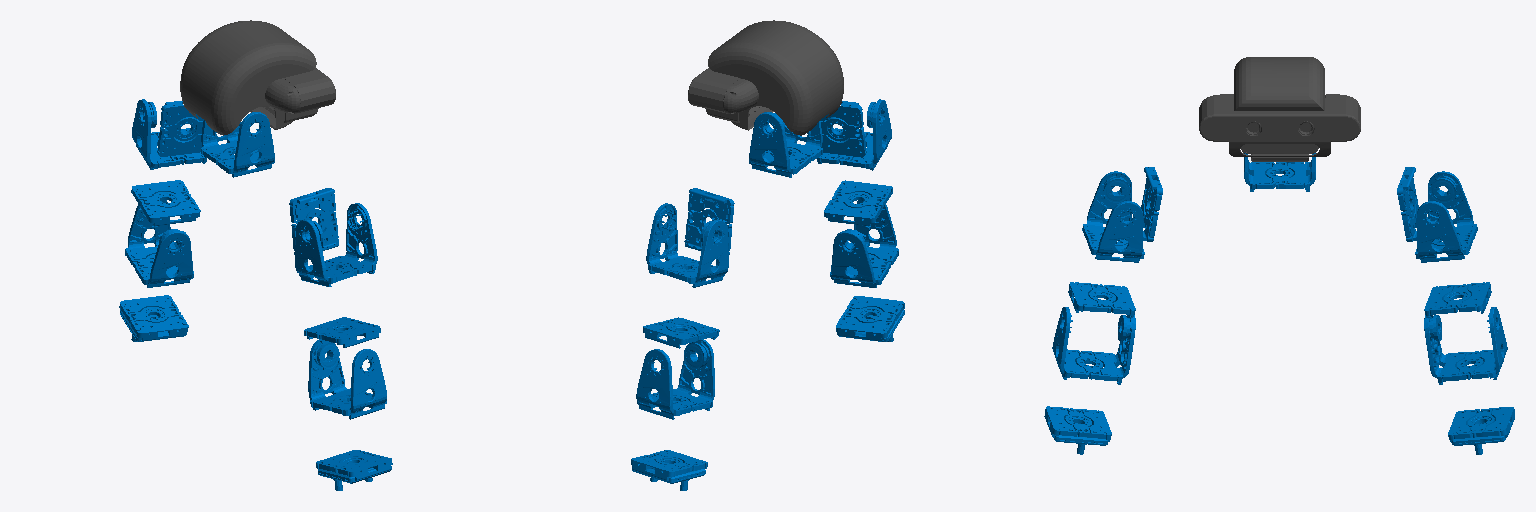
--- Render facts (derived) ---
3 views of the same robot in one strip: view 1: azimuth 30°, elevation 25°; view 2: azimuth 150°, elevation 25°; view 3: azimuth 270°, elevation 25° (orthographic).
Model alterego with 44 links and 43 joints (12 revolute, 4 continuous, 2 prismatic, 25 fixed), rooted at world, posed every joint at zero.
Links seen in each view (by area): view 1: head, right_forearm_flange, right_arm_flange, left_forearm_flange, neck, left_elbow_flange, left_wrist_flange, left_shoulder_flange, left_arm_flange, right_shoulder_flange, right_elbow_flange, right_wrist_flange; view 2: head, left_forearm_flange, left_arm_flange, right_forearm_flange, neck, right_elbow_flange, right_wrist_flange, right_shoulder_flange, right_arm_flange, left_shoulder_flange, left_elbow_flange, left_wrist_flange; view 3: head, left_arm_flange, right_arm_flange, left_forearm_flange, right_forearm_flange, neck, left_elbow_flange, left_wrist_flange, right_elbow_flange, right_wrist_flange, left_shoulder_flange, right_shoulder_flange (+1 smaller).
Boxes of the visible links, bbox=[...] form: head: bbox=[180, 20, 335, 135]; right_forearm_flange: bbox=[308, 339, 386, 419]; right_arm_flange: bbox=[295, 203, 377, 286]; left_forearm_flange: bbox=[125, 200, 193, 287]; neck: bbox=[201, 112, 274, 177]; left_elbow_flange: bbox=[131, 180, 200, 225]; left_wrist_flange: bbox=[119, 295, 188, 340]; left_shoulder_flange: bbox=[157, 101, 203, 156]; left_arm_flange: bbox=[132, 99, 206, 169]; right_shoulder_flange: bbox=[289, 188, 338, 254]; right_elbow_flange: bbox=[304, 317, 380, 347]; right_wrist_flange: bbox=[316, 450, 392, 480]; head: bbox=[688, 20, 843, 135]; left_forearm_flange: bbox=[636, 339, 714, 419]; left_arm_flange: bbox=[646, 203, 728, 287]; right_forearm_flange: bbox=[830, 200, 898, 287]; neck: bbox=[749, 112, 822, 177]; right_elbow_flange: bbox=[824, 180, 892, 225]; right_wrist_flange: bbox=[836, 296, 904, 341]; right_shoulder_flange: bbox=[820, 101, 866, 157]; right_arm_flange: bbox=[817, 99, 891, 170]; left_shoulder_flange: bbox=[684, 188, 734, 254]; left_elbow_flange: bbox=[643, 317, 719, 348]; left_wrist_flange: bbox=[631, 450, 707, 480]; head: bbox=[1199, 57, 1360, 161]; left_arm_flange: bbox=[1415, 171, 1477, 262]; right_arm_flange: bbox=[1082, 171, 1144, 262]; left_forearm_flange: bbox=[1424, 307, 1507, 384]; right_forearm_flange: bbox=[1052, 307, 1135, 384]; neck: bbox=[1244, 153, 1315, 191]; left_elbow_flange: bbox=[1424, 282, 1491, 317]; left_wrist_flange: bbox=[1448, 407, 1514, 442]; right_elbow_flange: bbox=[1068, 282, 1135, 317]; right_wrist_flange: bbox=[1044, 406, 1111, 441]; left_shoulder_flange: bbox=[1397, 167, 1418, 241]; right_shoulder_flange: bbox=[1141, 167, 1162, 241].
Size in the robot's own frame: 0.1395 by 0.5663 by 0.5058 metres.
Meshes: 13 distinct files referenced, 16 mesh visuals loaded (6 Collada DAE); not drawn: 1 (reference not matched to a file when rendering), 15 (file found but could not be loaded).

The robot description file, URDF, robot "alterego":
<?xml version="1.0" ?>
<!-- =================================================================================== -->
<!-- |    This document was autogenerated by xacro from ego_robot_gazebo_v2.urdf.xacro | -->
<!-- |    EDITING THIS FILE BY HAND IS NOT RECOMMENDED                                 | -->
<!-- =================================================================================== -->
<robot name="alterego">
  <material name="qbmove/flange">
    <color rgba="0.0 0.5 0.8 1.0"/>
  </material>
  <material name="qbmove/cube">
    <color rgba="0.35 0.35 0.35 1.0"/>
  </material>
  <material name="qbmove/shaft">
    <color rgba="0.8 0.8 0.8 1.0"/>
  </material>
  <material name="qbmove/default">
    <color rgba="0.35 0.35 0.35 1.0"/>
  </material>
  <material name="SoftBlue">
    <color rgba="0.0 0.0 0.8 0.9"/>
  </material>
  <material name="SoftLightBlue">
    <color rgba="0.0 0.4 1.0 1.0"/>
  </material>
  <material name="wheel">
    <color rgba="0.50 0.50 0.50 1.0"/>
  </material>
  <!-- IMU : -->
  <joint name="base_to_imu" type="fixed">
    <origin rpy="0 0 0" xyz="0 102.5e-3 24.25e-3"/>
    <parent link="base"/>
    <child link="imu"/>
  </joint>
  <link name="imu">
    <visual>
      <material name="qbmove/cube"/>
      <geometry>
        <mesh filename="package://alterego_description/meshes/common/visual/mc_seg_imu_supp_1_100.dae" scale="0.001 0.001 0.001"/>
      </geometry>
      <origin rpy="0 0 0" xyz="0 0 0"/>
    </visual>
    <inertial>
      <origin rpy="0 0 0" xyz="7.5000002e-3 -2.4329396e-4  5.0246414e-4"/>
      <mass value="2.3770213e-3"/>
      <inertia ixx="0" ixy="0" ixz="0" iyy="0" iyz="0" izz="0"/>
    </inertial>
    <collision>
      <origin rpy="0 0 0" xyz="0 0 0"/>
      <geometry>
        <mesh filename="package://alterego_description/meshes/common/collision/mc_seg_imu_supp_1_100.stl" scale="0.001 0.001 0.001"/>
      </geometry>
    </collision>
  </link>
  <!-- LASER : -->
  <joint name="base_to_laser" type="fixed">
    <origin rpy="0 0 -1.5707963" xyz="0 0 116e-3 "/>
    <parent link="base"/>
    <child link="laser"/>
  </joint>
  <link name="laser">
    <visual>
      <material name="qbmove/cube"/>
      <geometry>
        <mesh filename="package://alterego_description/meshes/common/visual/rplidar_a2_slamtec.dae" scale="0.001 0.001 0.001"/>
      </geometry>
      <origin rpy="0 0 0" xyz="0 0 0"/>
    </visual>
    <inertial>
      <origin rpy="0 0 0" xyz=" -4.3709710e-4 0   1.8991442e-2"/>
      <mass value="2.0002622e-1"/>
      <inertia ixx=" 9.1569570e-5" ixy="0" ixz="0" iyy="9.0192290e-5" iyz="0" izz="1.2956170e-4"/>
    </inertial>
    <collision>
      <origin rpy="0 0 0" xyz="0 0 0"/>
      <geometry>
        <mesh filename="package://alterego_description/meshes/common/collision/rplidar_a2_slamtec.stl" scale="0.001 0.001 0.001"/>
      </geometry>
    </collision>
  </link>
  <gazebo reference="laser">
    <material>Gazebo/Black</material>
  </gazebo>
  <!-- ZED : -->
  <joint name="head_to_camera" type="fixed">
    <origin rpy="-1.5707963 0 2.3561944" xyz="-87.9065e-3 21.6811e-3 -6.5e-3"/>
    <parent link="head"/>
    <child link="camera"/>
  </joint>
  <link name="camera">
    <visual>
      <material name="qbmove/cube"/>
      <geometry>
        <mesh filename="package://alterego_description/meshes/common/visual/zedm.dae" scale="0.001 0.001 0.001"/>
      </geometry>
      <origin rpy="0 0 0" xyz="0 0 0"/>
    </visual>
    <inertial>
      <origin rpy="0 0 0" xyz=" -1.7967264e-2  8.9226986e-4  7.6630930e-6"/>
      <mass value="5.8888131e-2"/>
      <inertia ixx=" 0" ixy="0" ixz="0" iyy="0" iyz="0" izz="0"/>
    </inertial>
    <collision>
      <origin rpy="0 0 0" xyz="0 0 0"/>
      <geometry>
        <mesh filename="package://alterego_description/meshes/common/collision/zedm.stl" scale="0.001 0.001 0.001"/>
      </geometry>
    </collision>
  </link>
  <!-- FRAME FOR PLUGIN  -->
  <!-- LEFT  -->
  <joint name="camera_to_left" type="fixed">
    <origin rpy="0 0 0" xyz="0 0.025 0"/>
    <parent link="camera"/>
    <child link="camera_left"/>
  </joint>
  <link name="camera_left"/>
  <!-- FRAME FOR PLUGIN  -->
  <!-- RIGHT  -->
  <joint name="camera_to_right" type="fixed">
    <origin rpy="0 0 0" xyz="0 -0.036 0"/>
    <parent link="camera"/>
    <child link="camera_right"/>
  </joint>
  <link name="camera_right"/>
  <!-- IMU : -->
  <joint name="head_to_realsense" type="fixed">
    <origin rpy="-1.5707963 0 2.3561944" xyz="-65.6725e-3 38.7425e-3 0"/>
    <parent link="head"/>
    <child link="realsense"/>
  </joint>
  <link name="realsense">
    <visual>
      <material name="qbmove/cube"/>
      <geometry>
        <mesh filename="package://alterego_description/meshes/common/visual/intel_realsense_d415_old_asm.dae" scale="0.001 0.001 0.001"/>
      </geometry>
      <origin rpy="1.57 0 1.57" xyz="0 0 0"/>
    </visual>
    <inertial>
      <origin rpy="0 0 0" xyz=" 2.8406417e-3  -1.0608066e-4  -1.1037173e-2"/>
      <mass value="5.6999990e-2"/>
      <inertia ixx=" 0" ixy="0" ixz="0" iyy="0" iyz="0" izz="0"/>
    </inertial>
    <collision>
      <origin rpy="1.57 0 1.57" xyz="0 0 0"/>
      <geometry>
        <mesh filename="package://alterego_description/meshes/common/collision/intel_realsense_d415_old_asm.stl" scale="0.001 0.001 0.001"/>
      </geometry>
    </collision>
  </link>
  <gazebo reference="realsense">
    <material>Gazebo/Black</material>
  </gazebo>
  <link name="fake_realsense">
    <inertial>
      <origin rpy="0 0 0" xyz=" 2.8406417e-5  -1.0608066e-7  -1.1037173e-5"/>
      <mass value="5.6999990e-4"/>
      <inertia ixx=" 0" ixy="0" ixz="0" iyy="0" iyz="0" izz="0"/>
    </inertial>
  </link>
  <joint name="depth_to_fakelink" type="fixed">
    <!-- <origin xyz="83e-3 -0.5e-3  1006.5e-3" rpy="-1.57 0 -1.57" /> -->
    <origin rpy="-1.57 0 -1.57" xyz="0 0 0"/>
    <parent link="realsense"/>
    <child link="fake_realsense"/>
  </joint>
  <!-- <xacro:include filename="$(find realsense2_description)/urdf/_d435.urdf.xacro" />
  <xacro:sensor_d435 name="d435" topics_ns="realsense" parent="realsense_link"
    publish_pointcloud="true">
    <origin xyz="0 0 0" rpy="1.57 -1.57 0" />
  </xacro:sensor_d435> -->
  <!-- JOINT -->
  <joint name="base_to_wheel_L" type="continuous">
    <axis xyz="0 0 1"/>
    <limit effort="22" velocity="1e16"/>
    <dynamics damping="5.2" friction="2.17"/>
    <origin rpy="0 -1.5707963 -1.5707963" xyz="0 277e-3 0"/>
    <parent link="base"/>
    <child link="wheel_L"/>
  </joint>
  <!-- LINK -->
  <link name="wheel_L">
    <visual>
      <material name="wheel"/>
      <geometry>
        <mesh filename="package://alterego_description/meshes/common/visual/mteg100_varvel_gearbox.dae" scale="0.001 0.001 0.001"/>
      </geometry>
      <origin rpy="0 0 0" xyz="0 0 0"/>
    </visual>
    <inertial>
      <origin rpy="0 0 0" xyz="-9.3352926e-7 -1.6320810e-6 7.2612692e-4"/>
      <mass value="1.2175322"/>
      <inertia ixx="4.9769349e-3" ixy="0" ixz="0" iyy="4.9768680e-3" iyz="0" izz="8.8587376e-3"/>
    </inertial>
    <collision>
      <geometry>
        <cylinder length="0.07" radius="0.13"/>
      </geometry>
      <origin rpy="0 0 0" xyz="0 0 0"/>
    </collision>
  </link>
  <!-- GAZEBO REFERENCE -->
  <gazebo reference="wheel_L">
    <material>Gazebo/Grey</material>
    <selfCollide>false</selfCollide>
    <mu1 value="1.0"/>
    <mu2 value="1.0"/>
    <kp value="1e6"/>
    <kd value="1.0"/>
  </gazebo>
  <!-- JOINT -->
  <joint name="base_to_wheel_R" type="continuous">
    <axis xyz="0 0 1"/>
    <limit effort="22" velocity="1e16"/>
    <dynamics damping="5.2" friction="2.17"/>
    <origin rpy="0 -1.5707963 1.5707963" xyz="0 -277e-3 0"/>
    <parent link="base"/>
    <child link="wheel_R"/>
  </joint>
  <!-- LINK -->
  <link name="wheel_R">
    <visual>
      <material name="wheel"/>
      <geometry>
        <mesh filename="package://alterego_description/meshes/common/visual/mteg100_varvel_gearbox.dae" scale="0.001 0.001 0.001"/>
      </geometry>
      <origin rpy="0 0 0" xyz="0 0 0"/>
    </visual>
    <inertial>
      <origin rpy="0 0 0" xyz="-9.3352926e-7 -1.6320810e-6 7.2612692e-4"/>
      <mass value="1.2175322"/>
      <inertia ixx="4.9769349e-3" ixy="0" ixz="0" iyy="4.9768680e-3" iyz="0" izz="8.8587376e-3"/>
    </inertial>
    <collision>
      <geometry>
        <cylinder length="0.07" radius="0.13"/>
      </geometry>
      <origin rpy="0 0 0" xyz="0 0 0"/>
    </collision>
  </link>
  <!-- GAZEBO REFERENCE -->
  <gazebo reference="wheel_R">
    <material>Gazebo/Grey</material>
    <selfCollide>false</selfCollide>
    <mu1 value="1.0"/>
    <mu2 value="1.0"/>
    <kp value="1e6"/>
    <kd value="1.0"/>
  </gazebo>
  <!-- Plugins  -->
  <gazebo>
    <plugin filename="libgazebo_ros_control.so" name="gazebo_ros_control">
      <robotNamespace>/wheels</robotNamespace>
      <robotSimType>gazebo_ros_control/DefaultRobotHWSim</robotSimType>
      <legacyModeNS>true</legacyModeNS>
    </plugin>
  </gazebo>
  <!--Trasmission-->
  <transmission name="tran1">
    <type>transmission_interface/SimpleTransmission</type>
    <joint name="base_to_wheel_L">
      <hardwareInterface>hardware_interface/EffortJointInterface</hardwareInterface>
    </joint>
    <actuator name="L_wheel_motor">
      <hardwareInterface>EffortJointInterface</hardwareInterface>
      <mechanicalReduction>1</mechanicalReduction>
    </actuator>
  </transmission>
  <transmission name="tran2">
    <type>transmission_interface/SimpleTransmission</type>
    <joint name="base_to_wheel_R">
      <hardwareInterface>hardware_interface/EffortJointInterface</hardwareInterface>
    </joint>
    <actuator name="R_wheel_motor">
      <hardwareInterface>EffortJointInterface</hardwareInterface>
      <mechanicalReduction>1</mechanicalReduction>
    </actuator>
  </transmission>
  <!-- Left Arm Actuator-->
  <gazebo>
    <plugin filename="libqbmove_plugin.so" name="compliant_act_head0">
      <joint>base_to_neck</joint>
      <operation_mode>5</operation_mode>
      <pub_eltau>false</pub_eltau>
      <pub_state>true</pub_state>
      <sub_ext_tau>false</sub_ext_tau>
      <namespace>left</namespace>
      <t_sample>0.01</t_sample>
      <spring_a1>11.0 </spring_a1>
      <spring_k1>0.02</spring_k1>
      <spring_a2>11.0</spring_a2>
      <spring_k2>0.02</spring_k2>
      <mot_1_tauMax>12.0</mot_1_tauMax>
      <mot_2_tauMax>12.0</mot_2_tauMax>
    </plugin>
  </gazebo>
  <gazebo>
    <plugin filename="libqbmove_plugin.so" name="compliant_act_left_j1">
      <joint>base_to_left_shoulder_flange</joint>
      <operation_mode>5</operation_mode>
      <pub_eltau>false</pub_eltau>
      <pub_state>true</pub_state>
      <sub_ext_tau>false</sub_ext_tau>
      <namespace>left</namespace>
      <t_sample>0.01</t_sample>
      <spring_a1>11.0 </spring_a1>
      <spring_k1>0.02</spring_k1>
      <spring_a2>11.0</spring_a2>
      <spring_k2>0.02</spring_k2>
      <mot_1_tauMax>12.0</mot_1_tauMax>
      <mot_2_tauMax>12.0</mot_2_tauMax>
    </plugin>
  </gazebo>
  <gazebo>
    <plugin filename="libqbmove_plugin.so" name="compliant_act_left_j2">
      <joint>left_shoulder_cube_to_left_arm_flange</joint>
      <operation_mode>5</operation_mode>
      <pub_eltau>false</pub_eltau>
      <pub_state>true</pub_state>
      <sub_ext_tau>false</sub_ext_tau>
      <namespace>left</namespace>
      <t_sample>0.01</t_sample>
      <spring_a1>11.0 </spring_a1>
      <spring_k1>0.02</spring_k1>
      <spring_a2>11.0</spring_a2>
      <spring_k2>0.02</spring_k2>
      <mot_1_tauMax>12.0</mot_1_tauMax>
      <mot_2_tauMax>12.0</mot_2_tauMax>
    </plugin>
  </gazebo>
  <gazebo>
    <plugin filename="libqbmove_plugin.so" name="compliant_act_left_j3">
      <joint>left_arm_cube_to_left_elbow_flange</joint>
      <operation_mode>5</operation_mode>
      <pub_eltau>false</pub_eltau>
      <pub_state>true</pub_state>
      <sub_ext_tau>false</sub_ext_tau>
      <namespace>left</namespace>
      <t_sample>0.01</t_sample>
      <spring_a1>11.0 </spring_a1>
      <spring_k1>0.02</spring_k1>
      <spring_a2>11.0</spring_a2>
      <spring_k2>0.02</spring_k2>
      <mot_1_tauMax>12.0</mot_1_tauMax>
      <mot_2_tauMax>12.0</mot_2_tauMax>
    </plugin>
  </gazebo>
  <gazebo>
    <plugin filename="libqbmove_plugin.so" name="compliant_act_left_j4">
      <joint>left_elbow_cube_to_left_forearm_flange</joint>
      <operation_mode>5</operation_mode>
      <pub_eltau>false</pub_eltau>
      <pub_state>true</pub_state>
      <sub_ext_tau>false</sub_ext_tau>
      <namespace>left</namespace>
      <t_sample>0.01</t_sample>
      <spring_a1>11.0 </spring_a1>
      <spring_k1>0.02</spring_k1>
      <spring_a2>11.0</spring_a2>
      <spring_k2>0.02</spring_k2>
      <mot_1_tauMax>12.0</mot_1_tauMax>
      <mot_2_tauMax>12.0</mot_2_tauMax>
    </plugin>
  </gazebo>
  <gazebo>
    <plugin filename="libqbmove_plugin.so" name="compliant_act_left_j5">
      <joint>left_forearm_cube_to_left_wrist_flange</joint>
      <operation_mode>5</operation_mode>
      <pub_eltau>false</pub_eltau>
      <pub_state>true</pub_state>
      <sub_ext_tau>false</sub_ext_tau>
      <namespace>left</namespace>
      <t_sample>0.01</t_sample>
      <spring_a1>11.0 </spring_a1>
      <spring_k1>0.02</spring_k1>
      <spring_a2>11.0</spring_a2>
      <spring_k2>0.02</spring_k2>
      <mot_1_tauMax>12.0</mot_1_tauMax>
      <mot_2_tauMax>12.0</mot_2_tauMax>
    </plugin>
  </gazebo>
  <!-- Right Arm Actuator-->
  <gazebo>
    <plugin filename="libqbmove_plugin.so" name="compliant_act_head1">
      <joint>neck_to_neck_cube</joint>
      <operation_mode>5</operation_mode>
      <pub_eltau>false</pub_eltau>
      <pub_state>true</pub_state>
      <sub_ext_tau>false</sub_ext_tau>
      <namespace>right</namespace>
      <t_sample>0.01</t_sample>
      <spring_a1>11.0 </spring_a1>
      <spring_k1>0.02</spring_k1>
      <spring_a2>11.0</spring_a2>
      <spring_k2>0.02</spring_k2>
      <mot_1_tauMax>12.0</mot_1_tauMax>
      <mot_2_tauMax>12.0</mot_2_tauMax>
    </plugin>
  </gazebo>
  <gazebo>
    <plugin filename="libqbmove_plugin.so" name="compliant_act_right_j7">
      <joint>base_to_right_shoulder_flange</joint>
      <operation_mode>5</operation_mode>
      <pub_eltau>false</pub_eltau>
      <pub_state>true</pub_state>
      <sub_ext_tau>false</sub_ext_tau>
      <namespace>right</namespace>
      <t_sample>0.01</t_sample>
      <spring_a1>11.0 </spring_a1>
      <spring_k1>0.02</spring_k1>
      <spring_a2>11.0</spring_a2>
      <spring_k2>0.02</spring_k2>
      <mot_1_tauMax>12.0</mot_1_tauMax>
      <mot_2_tauMax>12.0</mot_2_tauMax>
    </plugin>
  </gazebo>
  <gazebo>
    <plugin filename="libqbmove_plugin.so" name="compliant_act_right_j8">
      <joint>right_shoulder_cube_to_right_arm_flange</joint>
      <operation_mode>5</operation_mode>
      <pub_eltau>false</pub_eltau>
      <pub_state>true</pub_state>
      <sub_ext_tau>false</sub_ext_tau>
      <namespace>right</namespace>
      <t_sample>0.01</t_sample>
      <spring_a1>11.0 </spring_a1>
      <spring_k1>0.02</spring_k1>
      <spring_a2>11.0</spring_a2>
      <spring_k2>0.02</spring_k2>
      <mot_1_tauMax>12.0</mot_1_tauMax>
      <mot_2_tauMax>12.0</mot_2_tauMax>
    </plugin>
  </gazebo>
  <gazebo>
    <plugin filename="libqbmove_plugin.so" name="compliant_act_right_j9">
      <joint>right_arm_cube_to_right_elbow_flange</joint>
      <operation_mode>5</operation_mode>
      <pub_eltau>false</pub_eltau>
      <pub_state>true</pub_state>
      <sub_ext_tau>false</sub_ext_tau>
      <namespace>right</namespace>
      <t_sample>0.01</t_sample>
      <spring_a1>11.0 </spring_a1>
      <spring_k1>0.02</spring_k1>
      <spring_a2>11.0</spring_a2>
      <spring_k2>0.02</spring_k2>
      <mot_1_tauMax>12.0</mot_1_tauMax>
      <mot_2_tauMax>12.0</mot_2_tauMax>
    </plugin>
  </gazebo>
  <gazebo>
    <plugin filename="libqbmove_plugin.so" name="compliant_act_right_j10">
      <joint>right_elbow_cube_to_right_forearm_flange</joint>
      <operation_mode>5</operation_mode>
      <pub_eltau>false</pub_eltau>
      <pub_state>true</pub_state>
      <sub_ext_tau>false</sub_ext_tau>
      <namespace>right</namespace>
      <t_sample>0.01</t_sample>
      <spring_a1>11.0 </spring_a1>
      <spring_k1>0.02</spring_k1>
      <spring_a2>11.0</spring_a2>
      <spring_k2>0.02</spring_k2>
      <mot_1_tauMax>12.0</mot_1_tauMax>
      <mot_2_tauMax>12.0</mot_2_tauMax>
    </plugin>
  </gazebo>
  <gazebo>
    <plugin filename="libqbmove_plugin.so" name="compliant_act_right_j11">
      <joint>right_forearm_cube_to_right_wrist_flange</joint>
      <operation_mode>5</operation_mode>
      <pub_eltau>false</pub_eltau>
      <pub_state>true</pub_state>
      <sub_ext_tau>false</sub_ext_tau>
      <namespace>right</namespace>
      <t_sample>0.01</t_sample>
      <spring_a1>11.0 </spring_a1>
      <spring_k1>0.02</spring_k1>
      <spring_a2>11.0</spring_a2>
      <spring_k2>0.02</spring_k2>
      <mot_1_tauMax>12.0</mot_1_tauMax>
      <mot_2_tauMax>12.0</mot_2_tauMax>
    </plugin>
  </gazebo>
  <gazebo reference="imu">
    <gravity>true</gravity>
    <sensor name="imu_sensor" type="imu">
      <always_on>true</always_on>
      <update_rate>500</update_rate>
      <visualize>true</visualize>
      <topic>__default_topic__</topic>
      <plugin filename="libgazebo_ros_imu_sensor.so" name="imu_plugin">
        <topicName>imu</topicName>
        <bodyName>imu_1</bodyName>
        <updateRateHZ>10.0</updateRateHZ>
        <gaussianNoise>0.0</gaussianNoise>
        <xyzOffset>0 0 0</xyzOffset>
        <rpyOffset>0 0 0</rpyOffset>
        <frameName>imu_1</frameName>
      </plugin>
      <pose>0 0 0 0 0 0</pose>
    </sensor>
  </gazebo>
  <link name="world"/>
  <joint name="world_to_trans_x" type="prismatic">
    <parent link="world"/>
    <child link="trans_x"/>
    <axis xyz="1 0 0"/>
    <limit effort="100000" lower="-100000" upper="100000" velocity="100000"/>
  </joint>
  <link name="trans_x"/>
  <joint name="trans_x_to_trans_y" type="prismatic">
    <parent link="trans_x"/>
    <child link="trans_y"/>
    <axis xyz="0 1 0"/>
    <limit effort="100000" lower="-100000" upper="100000" velocity="100000"/>
  </joint>
  <link name="trans_y"/>
  <joint name="trans_y_to_fixed_z" type="fixed">
    <origin rpy="0.0 0.0 0.0" xyz="0 0 0.13"/>
    <parent link="trans_y"/>
    <child link="trans_z"/>
  </joint>
  <link name="trans_z"/>
  <joint name="trans_z_to_rot_z" type="continuous">
    <parent link="trans_z"/>
    <child link="rot_z"/>
    <axis xyz="0 0 1"/>
  </joint>
  <link name="rot_z"/>
  <joint name="rot_z_to_rot_y" type="continuous">
    <parent link="rot_z"/>
    <child link="rot_y"/>
    <axis xyz="0 1 0"/>
  </joint>
  <link name="rot_y"/>
  <joint name="rot_y_base" type="fixed">
    <origin rpy="0.0 0.0 0.0" xyz="0 0 0"/>
    <parent link="rot_y"/>
    <child link="base"/>
  </joint>
  <!-- <link name="world">
	</link>

	<joint name="world_to_base" type="fixed">
		<origin xyz="0 0 0" rpy="0 0 0" />
		<parent link="world" />
		<child link="base" />
	</joint> -->
  <link name="base">
    <visual>
      <material name="SoftLightBlue"/>
      <geometry>
        <mesh filename="package://alterego_description/meshes/alterego_v2/visual/body.dae" scale="0.001 0.001 0.001"/>
      </geometry>
      <origin rpy="0 0 0" xyz="0 0 0"/>
    </visual>
    <inertial>
      <origin rpy="0 0 0" xyz="-1.2011052e-5 1.1480563e-3 2.4548879e-1"/>
      <mass value="2.0831010e+1"/>
      <inertia ixx=" 1.6382953" ixy="-4.9516366e-4" ixz="-8.8000450e-3" iyy="1.4399643" iyz="4.3295684e-3" izz="2.5676989e-1"/>
    </inertial>
    <collision>
      <geometry>
        <mesh filename="package://alterego_description/meshes/alterego_v2/collision/body.stl" scale="0.001 0.001 0.001"/>
      </geometry>
      <origin rpy="0 0 0" xyz="0 0 0"/>
    </collision>
  </link>
  <link name="torso">
	</link>
  <joint name="base_to_torso" type="fixed">
    <origin rpy="0 0 0" xyz="-0.017 0 0.872"/>
    <parent link="base"/>
    <child link="torso"/>
  </joint>
  <gazebo reference="base">
    <material>Gazebo/SkyBlue</material>
    <selfCollide>false</selfCollide>
  </gazebo>
  <!-- JOINT -->
  <joint name="base_to_neck" type="revolute">
    <axis xyz="0 0 1"/>
    <limit effort="1000.0" lower="-3.14" upper="3.14" velocity="0.5"/>
    <origin rpy="0 -1.5707963 1.5707963" xyz="0 0 753.5e-3"/>
    <dynamics damping="0.065" friction="0.025"/>
    <parent link="base"/>
    <child link="neck"/>
  </joint>
  <!-- LINK -->
  <link name="neck">
    <visual>
      <material name="qbmove/flange"/>
      <geometry>
        <mesh filename="package://alterego_description/meshes/common/visual/la_flg_asm_c_wb_blu.dae" scale="0.001 0.001 0.001"/>
      </geometry>
      <origin rpy="0 0 0" xyz="0 0 0"/>
    </visual>
    <inertial>
      <origin rpy="0 0 0" xyz="-7.3157519e-3 2.3015782e-2 0"/>
      <mass value="8.6640591e-2"/>
      <inertia ixx="7.8695858e-5" ixy="1.8826444e-5" ixz="0" iyy="1.0265668e-4" iyz="0" izz="1.3810438e-4"/>
    </inertial>
    <collision>
      <origin rpy="0 0 0" xyz="0 0 0"/>
      <geometry>
        <mesh filename="package://alterego_description/meshes/common/collision/la_flg_asm_c_wb_blu.stl" scale="0.001 0.001 0.001"/>
      </geometry>
    </collision>
  </link>
  <!-- GAZEBO REFERENCE -->
  <gazebo reference="neck">
    <material>Gazebo/SkyBlue</material>
    <selfCollide>false</selfCollide>
  </gazebo>
  <!-- JOINT -->
  <joint name="neck_to_neck_cube" type="revolute">
    <axis xyz="0 0 -1"/>
    <limit effort="1000.0" lower="-3.14" upper="3.14" velocity="0.5"/>
    <dynamics damping="0.065" friction="0.025"/>
    <origin rpy="0 0 2.356195 " xyz="0 0 0.5e-3"/>
    <parent link="neck"/>
    <child link="neck_cube"/>
  </joint>
  <!-- LINK -->
  <link name="neck_cube">
    <visual>
      <material name="qbmove/cube"/>
      <geometry>
        <mesh filename="package://alterego_description/meshes/common/visual/qb_move_advanced_for_mate.dae" scale="0.001 0.001 0.001"/>
      </geometry>
      <origin rpy="0 0 0" xyz="0 0 0"/>
    </visual>
    <inertial>
      <origin rpy="0 0 0" xyz="-9.5664949e-5 -1.6749134e-5  1.3880927e-3"/>
      <mass value="4.5418805e-1"/>
      <inertia ixx="1.7978900e-4" ixy="0" ixz="0" iyy="1.7806823e-4" iyz="0" izz="1.6882624e-4"/>
    </inertial>
    <collision>
      <origin rpy="0.0 0.0 0.0" xyz="0.0 0.0 0.0"/>
      <geometry>
        <box size="0.07 0.07 0.07"/>
      </geometry>
    </collision>
  </link>
  <!-- GAZEBO REFERENCE -->
  <gazebo reference="neck_cube">
    <material>Gazebo/Grey</material>
    <selfCollide>false</selfCollide>
  </gazebo>
  <joint name="neck_cube_to_head" type="fixed">
    <origin rpy="0.0 0.0 0.0" xyz="0 0 0.0"/>
    <parent link="neck_cube"/>
    <child link="head"/>
  </joint>
  <link name="head">
    <visual>
      <material name="qbmove/cube"/>
      <geometry>
        <mesh filename="package://alterego_description/meshes/alterego_v2/visual/mteg102_head.dae" scale="0.001 0.001 0.001"/>
      </geometry>
      <origin rpy="0 0 0" xyz="0 0 0"/>
    </visual>
    <inertial>
      <origin rpy="0 0 0" xyz="-5.7289026e-2 -2.2846699e-2  -2.3567538e-3"/>
      <mass value="3.1797228e-1"/>
      <inertia ixx="8.0284197e-4" ixy="0" ixz="0" iyy="6.0074469e-4" iyz="1.7864454e-5" izz="5.6711386e-4"/>
    </inertial>
    <collision>
      <origin rpy="0.0 0.0 0.0" xyz="0.0 0.0 0.0"/>
      <geometry>
        <mesh filename="package://alterego_description/meshes/alterego_v2/collision/mteg102_head.stl" scale="0.001 0.001 0.001"/>
      </geometry>
    </collision>
  </link>
  <gazebo reference="head">
    <material>Gazebo/Grey</material>
    <selfCollide>false</selfCollide>
  </gazebo>
  <!-- JOINT -->
  <joint name="base_to_left_shoulder_flange" type="revolute">
    <axis xyz="0 0 1"/>
    <limit effort="1000.0" lower="-3.14" upper="3.14" velocity="0.5"/>
    <origin rpy="-0.1745345 -1.3962633 -1.5707948" xyz="16.9617e-3 154.989e-3 669.737e-3"/>
    <dynamics damping="0.065" friction="0.025"/>
    <parent link="base"/>
    <child link="left_shoulder_flange"/>
  </joint>
  <!-- LINK -->
  <link name="left_shoulder_flange">
    <visual>
      <material name="qbmove/flange"/>
      <geometry>
        <mesh filename="package://alterego_description/meshes/common/visual/la_flg_asm_flat_blu.dae" scale="0.001 0.001 0.001"/>
      </geometry>
      <origin rpy="0 0 0" xyz="0 0 0"/>
    </visual>
    <inertial>
      <origin rpy="0 0 0" xyz="-8.0511890e-5 0 6.1371397e-4"/>
      <mass value="4.1898263e-02"/>
      <inertia ixx="1.5773084e-5" ixy="0" ixz="0" iyy="2.1026644e-5" iyz="0" izz="3.6312308e-5"/>
    </inertial>
    <collision>
      <origin rpy="0 0 0" xyz="0 0 0"/>
      <geometry>
        <mesh filename="package://alterego_description/meshes/common/collision/la_flg_asm_flat_blu.stl" scale="0.001 0.001 0.001"/>
      </geometry>
    </collision>
  </link>
  <!-- GAZEBO REFERENCE -->
  <gazebo reference="left_shoulder_flange">
    <material>Gazebo/SkyBlue</material>
    <selfCollide>false</selfCollide>
  </gazebo>
  <!-- JOINT -->
  <joint name="left_shoulder_flange_to_left_shoulder_cube" type="fixed">
    <origin rpy="1.5707963 0 3.1415927" xyz="0 0 37e-3"/>
    <parent link="left_shoulder_flange"/>
    <child link="left_shoulder_cube"/>
  </joint>
  <!-- LINK -->
  <link name="left_shoulder_cube">
    <visual>
      <material name="qbmove/cube"/>
      <geometry>
        <mesh filename="package://alterego_description/meshes/common/visual/qb_move_advanced_for_mate.dae" scale="0.001 0.001 0.001"/>
      </geometry>
      <origin rpy="0 0 0" xyz="0 0 0"/>
    </visual>
    <inertial>
      <origin rpy="0 0 0" xyz="-9.5664949e-5 -1.6749134e-5  1.3880927e-3"/>
      <mass value="4.5418805e-1"/>
      <inertia ixx="1.7978900e-4" ixy="0" ixz="0" iyy="1.7806823e-4" iyz="0" izz="1.6882624e-4"/>
    </inertial>
    <collision>
      <origin rpy="0.0 0.0 0.0" xyz="0.0 0.0 0.0"/>
      <geometry>
        <box size="0.07 0.07 0.07"/>
      </geometry>
    </collision>
  </link>
  <!-- GAZEBO REFERENCE -->
  <gazebo reference="left_shoulder_cube">
    <material>Gazebo/Grey</material>
    <selfCollide>false</selfCollide>
  </gazebo>
  <!-- JOINT -->
  <joint name="left_shoulder_cube_to_left_arm_flange" type="revolute">
    <axis xyz="0 0 1"/>
    <limit effort="1000.0" lower="-3.14" upper="3.14" velocity="0.5"/>
    <origin rpy="0 0 3.1415927" xyz="0 0 -0.5e-3"/>
    <dynamics damping="0.065" friction="0.025"/>
    <parent link="left_shoulder_cube"/>
    <child link="left_arm_flange"/>
  </joint>
  <!-- LINK -->
  <link name="left_arm_flange">
    <visual>
      <material name="qbmove/flange"/>
      <geometry>
        <mesh filename="package://alterego_description/meshes/common/visual/la_flg_asm_c_wb_blu.dae" scale="0.001 0.001 0.001"/>
      </geometry>
      <origin rpy="0 0 0" xyz="0 0 0"/>
    </visual>
    <inertial>
      <origin rpy="0 0 0" xyz="-7.3157519e-3 2.3015782e-2 0"/>
      <mass value="8.6640591e-2"/>
      <inertia ixx="7.8695858e-5" ixy="1.8826444e-5" ixz="0" iyy="1.0265668e-4" iyz="0" izz="1.3810438e-4"/>
    </inertial>
    <collision>
      <origin rpy="0 0 0" xyz="0 0 0"/>
      <geometry>
        <mesh filename="package://alterego_description/meshes/common/collision/la_flg_asm_c_wb_blu.stl" scale="0.001 0.001 0.001"/>
      </geometry>
    </collision>
  </link>
  <!-- GAZEBO REFERENCE -->
  <gazebo reference="left_arm_flange">
    <material>Gazebo/SkyBlue</material>
    <selfCollide>false</selfCollide>
  </gazebo>
  <!-- JOINT -->
  <joint name="left_arm_flange_to_left_arm_cube" type="fixed">
    <origin rpy="0 1.5707963 3.1415927" xyz="-90e-3 0 0"/>
    <parent link="left_arm_flange"/>
    <child link="left_arm_cube"/>
  </joint>
  <!-- LINK -->
  <link name="left_arm_cube">
    <visual>
      <material name="qbmove/cube"/>
      <geometry>
        <mesh filename="package://alterego_description/meshes/common/visual/qb_move_advanced_for_mate.dae" scale="0.001 0.001 0.001"/>
      </geometry>
      <origin rpy="0 0 0" xyz="0 0 0"/>
    </visual>
    <inertial>
      <origin rpy="0 0 0" xyz="-9.5664949e-5 -1.6749134e-5  1.3880927e-3"/>
      <mass value="4.5418805e-1"/>
      <inertia ixx="1.7978900e-4" ixy="0" ixz="0" iyy="1.7806823e-4" iyz="0" izz="1.6882624e-4"/>
    </inertial>
    <collision>
      <origin rpy="0.0 0.0 0.0" xyz="0.0 0.0 0.0"/>
      <geometry>
        <box size="0.07 0.07 0.07"/>
      </geometry>
    </collision>
  </link>
  <!-- GAZEBO REFERENCE -->
  <gazebo reference="left_arm_cube">
    <material>Gazebo/Grey</material>
    <selfCollide>false</selfCollide>
  </gazebo>
  <!-- JOINT -->
  <joint name="left_arm_cube_to_left_elbow_flange" type="revolute">
    <axis xyz="0 0 1"/>
    <limit effort="1000.0" lower="-3.14" upper="3.14" velocity="0.5"/>
    <origin rpy="0 0 1.5707963" xyz="0 0 40.5e-3"/>
    <dynamics damping="0.065" friction="0.025"/>
    <parent link="left_arm_cube"/>
    <child link="left_elbow_flange"/>
  </joint>
  <!-- LINK -->
  <link name="left_elbow_flange">
    <visual>
      <material name="qbmove/flange"/>
      <geometry>
        <mesh filename="package://alterego_description/meshes/common/visual/la_flg_asm_flat_blu.dae" scale="0.001 0.001 0.001"/>
      </geometry>
      <origin rpy="0 0 0" xyz="0 0 0"/>
    </visual>
    <inertial>
      <origin rpy="0 0 0" xyz="-8.0511890e-5 0 6.1371397e-4"/>
      <mass value="4.1898263e-02"/>
      <inertia ixx="1.5773084e-5" ixy="0" ixz="0" iyy="2.1026644e-5" iyz="0" izz="3.6312308e-5"/>
    </inertial>
    <collision>
      <origin rpy="0 0 0" xyz="0 0 0"/>
      <geometry>
        <mesh filename="package://alterego_description/meshes/common/collision/la_flg_asm_flat_blu.stl" scale="0.001 0.001 0.001"/>
      </geometry>
    </collision>
  </link>
  <!-- GAZEBO REFERENCE -->
  <gazebo reference="left_elbow_flange">
    <material>Gazebo/SkyBlue</material>
    <selfCollide>false</selfCollide>
  </gazebo>
  <!-- JOINT -->
  <joint name="left_elbow_flange_to_left_elbow_cube" type="fixed">
    <origin rpy="-1.5707963 0 -1.5707963" xyz="0 0 37.0e-3"/>
    <parent link="left_elbow_flange"/>
    <child link="left_elbow_cube"/>
  </joint>
  <!-- LINK -->
  <link name="left_elbow_cube">
    <visual>
      <material name="qbmove/cube"/>
      <geometry>
        <mesh filename="package://alterego_description/meshes/common/visual/qb_move_advanced_for_mate.dae" scale="0.001 0.001 0.001"/>
      </geometry>
      <origin rpy="0 0 0" xyz="0 0 0"/>
    </visual>
    <inertial>
      <origin rpy="0 0 0" xyz="-9.5664949e-5 -1.6749134e-5  1.3880927e-3"/>
      <mass value="4.5418805e-1"/>
      <inertia ixx="1.7978900e-4" ixy="0" ixz="0" iyy="1.7806823e-4" iyz="0" izz="1.6882624e-4"/>
    </inertial>
    <collision>
      <origin rpy="0.0 0.0 0.0" xyz="0.0 0.0 0.0"/>
      <geometry>
        <box size="0.07 0.07 0.07"/>
      </geometry>
    </collision>
  </link>
  <!-- GAZEBO REFERENCE -->
  <gazebo reference="left_elbow_cube">
    <material>Gazebo/Grey</material>
    <selfCollide>false</selfCollide>
  </gazebo>
  <!-- JOINT -->
  <joint name="left_elbow_cube_to_left_forearm_flange" type="revolute">
    <axis xyz="0 0 1"/>
    <limit effort="1000.0" lower="-3.14" upper="3.14" velocity="0.5"/>
    <origin rpy="0 0 1.5707963" xyz="0 0 -0.5e-3"/>
    <dynamics damping="0.065" friction="0.025"/>
    <parent link="left_elbow_cube"/>
    <child link="left_forearm_flange"/>
  </joint>
  <!-- LINK -->
  <link name="left_forearm_flange">
    <visual>
      <material name="qbmove/flange"/>
      <geometry>
        <mesh filename="package://alterego_description/meshes/common/visual/la_flg_asm_c_wb_blu.dae" scale="0.001 0.001 0.001"/>
      </geometry>
      <origin rpy="0 0 0" xyz="0 0 0"/>
    </visual>
    <inertial>
      <origin rpy="0 0 0" xyz="-7.3157519e-3 2.3015782e-2 0"/>
      <mass value="8.6640591e-2"/>
      <inertia ixx="7.8695858e-5" ixy="1.8826444e-5" ixz="0" iyy="1.0265668e-4" iyz="0" izz="1.3810438e-4"/>
    </inertial>
    <collision>
      <origin rpy="0 0 0" xyz="0 0 0"/>
      <geometry>
        <mesh filename="package://alterego_description/meshes/common/collision/la_flg_asm_c_wb_blu.stl" scale="0.001 0.001 0.001"/>
      </geometry>
    </collision>
  </link>
  <!-- GAZEBO REFERENCE -->
  <gazebo reference="left_forearm_flange">
    <material>Gazebo/SkyBlue</material>
    <selfCollide>false</selfCollide>
  </gazebo>
  <!-- JOINT -->
  <joint name="left_forearm_flange_to_left_forearm_cube" type="fixed">
    <origin rpy="1.5707963 0 -1.5707963" xyz="-90.0e-3 0 0"/>
    <parent link="left_forearm_flange"/>
    <child link="left_forearm_cube"/>
  </joint>
  <!-- LINK -->
  <link name="left_forearm_cube">
    <visual>
      <material name="qbmove/cube"/>
      <geometry>
        <mesh filename="package://alterego_description/meshes/common/visual/qb_move_advanced_for_mate.dae" scale="0.001 0.001 0.001"/>
      </geometry>
      <origin rpy="0 0 0" xyz="0 0 0"/>
    </visual>
    <inertial>
      <origin rpy="0 0 0" xyz="-9.5664949e-5 -1.6749134e-5  1.3880927e-3"/>
      <mass value="4.5418805e-1"/>
      <inertia ixx="1.7978900e-4" ixy="0" ixz="0" iyy="1.7806823e-4" iyz="0" izz="1.6882624e-4"/>
    </inertial>
    <collision>
      <origin rpy="0.0 0.0 0.0" xyz="0.0 0.0 0.0"/>
      <geometry>
        <box size="0.07 0.07 0.07"/>
      </geometry>
    </collision>
  </link>
  <!-- GAZEBO REFERENCE -->
  <gazebo reference="left_forearm_cube">
    <material>Gazebo/Grey</material>
    <selfCollide>false</selfCollide>
  </gazebo>
  <!-- JOINT -->
  <joint name="left_forearm_cube_to_left_wrist_flange" type="revolute">
    <axis xyz="0 0 1"/>
    <limit effort="1000.0" lower="-3.14" upper="3.14" velocity="0.5"/>
    <origin rpy="0 0 -1.5707963" xyz="0 0 40.5e-3"/>
    <dynamics damping="0.065" friction="0.025"/>
    <parent link="left_forearm_cube"/>
    <child link="left_wrist_flange"/>
  </joint>
  <!-- LINK -->
  <link name="left_wrist_flange">
    <visual>
      <material name="qbmove/flange"/>
      <geometry>
        <mesh filename="package://alterego_description/meshes/common/visual/la_flg_asm_flat_blu.dae" scale="0.001 0.001 0.001"/>
      </geometry>
      <origin rpy="0 0 0" xyz="0 0 0"/>
    </visual>
    <inertial>
      <origin rpy="0 0 0" xyz="-8.0511890e-5 0 6.1371397e-4"/>
      <mass value="4.1898263e-02"/>
      <inertia ixx="1.5773084e-5" ixy="0" ixz="0" iyy="2.1026644e-5" iyz="0" izz="3.6312308e-5"/>
    </inertial>
    <collision>
      <origin rpy="0 0 0" xyz="0 0 0"/>
      <geometry>
        <mesh filename="package://alterego_description/meshes/common/collision/la_flg_asm_flat_blu.stl" scale="0.001 0.001 0.001"/>
      </geometry>
    </collision>
  </link>
  <!-- GAZEBO REFERENCE -->
  <gazebo reference="left_wrist_flange">
    <material>Gazebo/SkyBlue</material>
    <selfCollide>false</selfCollide>
  </gazebo>
  <!-- JOINT -->
  <joint name="left_wrist_flange_to_left_forearm_hand_flange" type="fixed">
    <origin rpy="0 0 0" xyz="0 0 4e-3"/>
    <parent link="left_wrist_flange"/>
    <child link="left_forearm_hand_flange"/>
  </joint>
  <!-- LINK -->
  <link name="left_forearm_hand_flange">
    <visual>
      <material name="qbmove/flange"/>
      <geometry>
        <mesh filename="package://alterego_description/meshes/alterego_v2/visual/mc_wr_abs_qb_adv_301.dae" scale="0.001 0.001 0.001"/>
      </geometry>
      <origin rpy="0 0 0" xyz="0 0 0"/>
    </visual>
    <inertial>
      <origin rpy="0 0 0" xyz="3.0876986e-4 7.1294237e-5 6.7729239e-3"/>
      <mass value="3.4805486e-2"/>
      <inertia ixx="1.5814995e-5" ixy="0" ixz="0" iyy="1.1610747e-5" iyz="0" izz="2.5935426e-5"/>
    </inertial>
    <collision>
      <origin rpy="0 0 0" xyz="0 0 0"/>
      <geometry>
        <mesh filename="package://alterego_description/meshes/alterego_v2/collision/mc_wr_abs_qb_adv_301.stl" scale="0.001 0.001 0.001"/>
      </geometry>
    </collision>
  </link>
  <!-- GAZEBO REFERENCE -->
  <gazebo reference="left_forearm_hand_flange">
    <material>Gazebo/Grey</material>
    <selfCollide>false</selfCollide>
  </gazebo>
  <!-- JOINT -->
  <joint name="left_forearm_hand_flange_to_left_hand" type="fixed">
    <axis xyz="0 0 1"/>
    <limit effort="1000.0" lower="-3.14" upper="3.14" velocity="0.5"/>
    <origin rpy="1.571355 0 0" xyz="3.3e-3 1.01693e-3 2.80899e-3"/>
    <parent link="left_forearm_hand_flange"/>
    <child link="left_hand"/>
  </joint>
  <!-- LINK -->
  <link name="left_hand">
    <visual>
      <material name="qbmove/cube"/>
      <geometry>
        <mesh filename="package://alterego_description/meshes/common/visual/softhand_3_sx_urdf.dae" scale="0.001 0.001 0.001"/>
      </geometry>
      <origin rpy="0 0 0" xyz="0 0 0"/>
    </visual>
    <inertial>
      <origin rpy="0 0 0" xyz="4.1728393e-3  6.3287667e-2 6.0659797e-3"/>
      <mass value="2.9013125e-1"/>
      <inertia ixx="5.6377846e-4" ixy="-2.5891425e-5" ixz="-1.0142109e-5" iyy="1.4989796e-4" iyz="5.9361645e-6" izz="4.4769789e-4"/>
    </inertial>
    <collision>
      <material name="qbmove/cube"/>
      <geometry>
        <mesh filename="package://alterego_description/meshes/common/collision/softhand_3_sx_urdf.stl" scale="0.001 0.001 0.001"/>
      </geometry>
      <origin rpy="0 0 0" xyz="0 0 0"/>
    </collision>
  </link>
  m
		
  <joint name="left_hand_to_left_hand__ik" type="fixed">
    <origin rpy="0 0 -1.57" xyz="0 0.088 0.032"/>
    <parent link="left_hand"/>
    <child link="left_hand_ik"/>
  </joint>
  <link name="left_hand_ik">
		</link>
  <!-- GAZEBO REFERENCE -->
  <gazebo reference="left_hand">
    <material>Gazebo/Grey</material>
    <selfCollide>false</selfCollide>
  </gazebo>
  <!-- JOINT -->
  <joint name="base_to_right_shoulder_flange" type="revolute">
    <axis xyz="0 0 1"/>
    <limit effort="1000.0" lower="-3.14" upper="3.14" velocity="0.5"/>
    <origin rpy="0.1745345 -1.3962633 1.5707948" xyz="16.9617e-3 -154.989e-3 669.737e-3"/>
    <dynamics damping="0.065" friction="0.025"/>
    <parent link="base"/>
    <child link="right_shoulder_flange"/>
  </joint>
  <!-- LINK -->
  <link name="right_shoulder_flange">
    <visual>
      <material name="qbmove/flange"/>
      <geometry>
        <mesh filename="package://alterego_description/meshes/common/visual/la_flg_asm_flat_blu.dae" scale="0.001 0.001 0.001"/>
      </geometry>
      <origin rpy="0 0 0" xyz="0 0 0"/>
    </visual>
    <inertial>
      <origin rpy="0 0 0" xyz="-8.0511890e-5 0 6.1371397e-4"/>
      <mass value="4.1898263e-02"/>
      <inertia ixx="1.5773084e-5" ixy="0" ixz="0" iyy="2.1026644e-5" iyz="0" izz="3.6312308e-5"/>
    </inertial>
    <collision>
      <origin rpy="0 0 0" xyz="0 0 0"/>
      <geometry>
        <mesh filename="package://alterego_description/meshes/common/collision/la_flg_asm_flat_blu.stl" scale="0.001 0.001 0.001"/>
      </geometry>
    </collision>
  </link>
  <!-- GAZEBO REFERENCE -->
  <gazebo reference="right_shoulder_flange">
    <material>Gazebo/SkyBlue</material>
    <selfCollide>false</selfCollide>
  </gazebo>
  <!-- JOINT -->
  <joint name="right_shoulder_flange_to_right_shoulder_cube" type="fixed">
    <origin rpy="-1.5707963 0 3.1415927" xyz="0 0 37.0e-3"/>
    <parent link="right_shoulder_flange"/>
    <child link="right_shoulder_cube"/>
  </joint>
  <!-- LINK -->
  <link name="right_shoulder_cube">
    <visual>
      <material name="qbmove/cube"/>
      <geometry>
        <mesh filename="package://alterego_description/meshes/common/visual/qb_move_advanced_for_mate.dae" scale="0.001 0.001 0.001"/>
      </geometry>
      <origin rpy="0 0 0" xyz="0 0 0"/>
    </visual>
    <inertial>
      <origin rpy="0 0 0" xyz="-9.5664949e-5 -1.6749134e-5  1.3880927e-3"/>
      <mass value="4.5418805e-1"/>
      <inertia ixx="1.7978900e-4" ixy="0" ixz="0" iyy="1.7806823e-4" iyz="0" izz="1.6882624e-4"/>
    </inertial>
    <collision>
      <origin rpy="0.0 0.0 0.0" xyz="0.0 0.0 0.0"/>
      <geometry>
        <box size="0.07 0.07 0.07"/>
      </geometry>
    </collision>
  </link>
  <!-- GAZEBO REFERENCE -->
  <gazebo reference="right_shoulder_cube">
    <material>Gazebo/Grey</material>
    <selfCollide>false</selfCollide>
  </gazebo>
  <!-- JOINT -->
  <joint name="right_shoulder_cube_to_right_arm_flange" type="revolute">
    <axis xyz="0 0 1"/>
    <limit effort="1000.0" lower="-3.14" upper="3.14" velocity="0.5"/>
    <origin rpy="0 0 3.1415927" xyz="0 0 -0.5e-3"/>
    <dynamics damping="0.065" friction="0.025"/>
    <parent link="right_shoulder_cube"/>
    <child link="right_arm_flange"/>
  </joint>
  <!-- LINK -->
  <link name="right_arm_flange">
    <visual>
      <material name="qbmove/flange"/>
      <geometry>
        <mesh filename="package://alterego_description/meshes/common/visual/la_flg_asm_c_wb_blu.dae" scale="0.001 0.001 0.001"/>
      </geometry>
      <origin rpy="0 0 0" xyz="0 0 0"/>
    </visual>
    <inertial>
      <origin rpy="0 0 0" xyz="-7.3157519e-3 2.3015782e-2 0"/>
      <mass value="8.6640591e-2"/>
      <inertia ixx="7.8695858e-5" ixy="1.8826444e-5" ixz="0" iyy="1.0265668e-4" iyz="0" izz="1.3810438e-4"/>
    </inertial>
    <collision>
      <origin rpy="0 0 0" xyz="0 0 0"/>
      <geometry>
        <mesh filename="package://alterego_description/meshes/common/collision/la_flg_asm_c_wb_blu.stl" scale="0.001 0.001 0.001"/>
      </geometry>
    </collision>
  </link>
  <!-- GAZEBO REFERENCE -->
  <gazebo reference="right_arm_flange">
    <material>Gazebo/SkyBlue</material>
    <selfCollide>false</selfCollide>
  </gazebo>
  <!-- JOINT -->
  <joint name="right_arm_flange_to_right_arm_cube" type="fixed">
    <origin rpy="0 1.5707963 3.1415927" xyz="-90e-3 0 -0.5e-3"/>
    <parent link="right_arm_flange"/>
    <child link="right_arm_cube"/>
  </joint>
  <!-- LINK -->
  <link name="right_arm_cube">
    <visual>
      <material name="qbmove/cube"/>
      <geometry>
        <mesh filename="package://alterego_description/meshes/common/visual/qb_move_advanced_for_mate.dae" scale="0.001 0.001 0.001"/>
      </geometry>
      <origin rpy="0 0 0" xyz="0 0 0"/>
    </visual>
    <inertial>
      <origin rpy="0 0 0" xyz="-9.5664949e-5 -1.6749134e-5  1.3880927e-3"/>
      <mass value="4.5418805e-1"/>
      <inertia ixx="1.7978900e-4" ixy="0" ixz="0" iyy="1.7806823e-4" iyz="0" izz="1.6882624e-4"/>
    </inertial>
    <collision>
      <origin rpy="0.0 0.0 0.0" xyz="0.0 0.0 0.0"/>
      <geometry>
        <box size="0.07 0.07 0.07"/>
      </geometry>
    </collision>
  </link>
  <!-- GAZEBO REFERENCE -->
  <gazebo reference="right_arm_cube">
    <material>Gazebo/Grey</material>
    <selfCollide>false</selfCollide>
  </gazebo>
  <!-- JOINT -->
  <joint name="right_arm_cube_to_right_elbow_flange" type="revolute">
    <axis xyz="0 0 1"/>
    <limit effort="1000.0" lower="-3.14" upper="3.14" velocity="0.5"/>
    <origin rpy="0 0 1.5707963" xyz="0 0 40.5e-3"/>
    <dynamics damping="0.065" friction="0.025"/>
    <parent link="right_arm_cube"/>
    <child link="right_elbow_flange"/>
  </joint>
  <!-- LINK -->
  <link name="right_elbow_flange">
    <visual>
      <material name="qbmove/flange"/>
      <geometry>
        <mesh filename="package://alterego_description/meshes/common/visual/la_flg_asm_flat_blu.dae" scale="0.001 0.001 0.001"/>
      </geometry>
      <origin rpy="0 0 0" xyz="0 0 0"/>
    </visual>
    <inertial>
      <origin rpy="0 0 0" xyz="-8.0511890e-5 0 6.1371397e-4"/>
      <mass value="4.1898263e-02"/>
      <inertia ixx="1.5773084e-5" ixy="0" ixz="0" iyy="2.1026644e-5" iyz="0" izz="3.6312308e-5"/>
    </inertial>
    <collision>
      <origin rpy="0 0 0" xyz="0 0 0"/>
      <geometry>
        <mesh filename="package://alterego_description/meshes/common/collision/la_flg_asm_flat_blu.stl" scale="0.001 0.001 0.001"/>
      </geometry>
    </collision>
  </link>
  <!-- GAZEBO REFERENCE -->
  <gazebo reference="right_elbow_flange">
    <material>Gazebo/SkyBlue</material>
    <selfCollide>false</selfCollide>
  </gazebo>
  <!-- JOINT -->
  <joint name="right_elbow_flange_to_right_elbow_cube" type="fixed">
    <origin rpy="1.5707963 0 -1.5707963" xyz="0 0 37e-3"/>
    <parent link="right_elbow_flange"/>
    <child link="right_elbow_cube"/>
  </joint>
  <!-- LINK -->
  <link name="right_elbow_cube">
    <visual>
      <material name="qbmove/cube"/>
      <geometry>
        <mesh filename="package://alterego_description/meshes/common/visual/qb_move_advanced_for_mate.dae" scale="0.001 0.001 0.001"/>
      </geometry>
      <origin rpy="0 0 0" xyz="0 0 0"/>
    </visual>
    <inertial>
      <origin rpy="0 0 0" xyz="-9.5664949e-5 -1.6749134e-5  1.3880927e-3"/>
      <mass value="4.5418805e-1"/>
      <inertia ixx="1.7978900e-4" ixy="0" ixz="0" iyy="1.7806823e-4" iyz="0" izz="1.6882624e-4"/>
    </inertial>
    <collision>
      <origin rpy="0.0 0.0 0.0" xyz="0.0 0.0 0.0"/>
      <geometry>
        <box size="0.07 0.07 0.07"/>
      </geometry>
    </collision>
  </link>
  <!-- GAZEBO REFERENCE -->
  <gazebo reference="right_elbow_cube">
    <material>Gazebo/Grey</material>
    <selfCollide>false</selfCollide>
  </gazebo>
  <!-- JOINT -->
  <joint name="right_elbow_cube_to_right_forearm_flange" type="revolute">
    <axis xyz="0 0 1"/>
    <limit effort="1000.0" lower="-3.14" upper="3.14" velocity="0.5"/>
    <origin rpy="0 0 -1.5707963" xyz="0 0 -0.5e-3"/>
    <dynamics damping="0.065" friction="0.025"/>
    <parent link="right_elbow_cube"/>
    <child link="right_forearm_flange"/>
  </joint>
  <!-- LINK -->
  <link name="right_forearm_flange">
    <visual>
      <material name="qbmove/flange"/>
      <geometry>
        <mesh filename="package://alterego_description/meshes/common/visual/la_flg_asm_c_wb_blu.dae" scale="0.001 0.001 0.001"/>
      </geometry>
      <origin rpy="0 0 0" xyz="0 0 0"/>
    </visual>
    <inertial>
      <origin rpy="0 0 0" xyz="-7.3157519e-3 2.3015782e-2 0"/>
      <mass value="8.6640591e-2"/>
      <inertia ixx="7.8695858e-5" ixy="1.8826444e-5" ixz="0" iyy="1.0265668e-4" iyz="0" izz="1.3810438e-4"/>
    </inertial>
    <collision>
      <origin rpy="0 0 0" xyz="0 0 0"/>
      <geometry>
        <mesh filename="package://alterego_description/meshes/common/collision/la_flg_asm_c_wb_blu.stl" scale="0.001 0.001 0.001"/>
      </geometry>
    </collision>
  </link>
  <!-- GAZEBO REFERENCE -->
  <gazebo reference="right_forearm_flange">
    <material>Gazebo/SkyBlue</material>
    <selfCollide>false</selfCollide>
  </gazebo>
  <!-- JOINT -->
  <joint name="right_forearm_flange_to_right_forearm_cube" type="fixed">
    <origin rpy="-1.5707963 0 1.5707963" xyz="-90e-3 0 0"/>
    <parent link="right_forearm_flange"/>
    <child link="right_forearm_cube"/>
  </joint>
  <!-- LINK -->
  <link name="right_forearm_cube">
    <visual>
      <material name="qbmove/cube"/>
      <geometry>
        <mesh filename="package://alterego_description/meshes/common/visual/qb_move_advanced_for_mate.dae" scale="0.001 0.001 0.001"/>
      </geometry>
      <origin rpy="0 0 0" xyz="0 0 0"/>
    </visual>
    <inertial>
      <origin rpy="0 0 0" xyz="-9.5664949e-5 -1.6749134e-5  1.3880927e-3"/>
      <mass value="4.5418805e-1"/>
      <inertia ixx="1.7978900e-4" ixy="0" ixz="0" iyy="1.7806823e-4" iyz="0" izz="1.6882624e-4"/>
    </inertial>
    <collision>
      <origin rpy="0.0 0.0 0.0" xyz="0.0 0.0 0.0"/>
      <geometry>
        <box size="0.07 0.07 0.07"/>
      </geometry>
    </collision>
  </link>
  <!-- GAZEBO REFERENCE -->
  <gazebo reference="right_forearm_cube">
    <material>Gazebo/Grey</material>
    <selfCollide>false</selfCollide>
  </gazebo>
  <!-- JOINT -->
  <joint name="right_forearm_cube_to_right_wrist_flange" type="revolute">
    <axis xyz="0 0 1"/>
    <limit effort="1000.0" lower="-3.14" upper="3.14" velocity="0.5"/>
    <origin rpy="0 0 -1.5707963" xyz="0 0 40.5e-3"/>
    <dynamics damping="0.065" friction="0.025"/>
    <parent link="right_forearm_cube"/>
    <child link="right_wrist_flange"/>
  </joint>
  <!-- LINK -->
  <link name="right_wrist_flange">
    <visual>
      <material name="qbmove/flange"/>
      <geometry>
        <mesh filename="package://alterego_description/meshes/common/visual/la_flg_asm_flat_blu.dae" scale="0.001 0.001 0.001"/>
      </geometry>
      <origin rpy="0 0 0" xyz="0 0 0"/>
    </visual>
    <inertial>
      <origin rpy="0 0 0" xyz="-8.0511890e-5 0 6.1371397e-4"/>
      <mass value="4.1898263e-02"/>
      <inertia ixx="1.5773084e-5" ixy="0" ixz="0" iyy="2.1026644e-5" iyz="0" izz="3.6312308e-5"/>
    </inertial>
    <collision>
      <origin rpy="0 0 0" xyz="0 0 0"/>
      <geometry>
        <mesh filename="package://alterego_description/meshes/common/collision/la_flg_asm_flat_blu.stl" scale="0.001 0.001 0.001"/>
      </geometry>
    </collision>
  </link>
  <!-- GAZEBO REFERENCE -->
  <gazebo reference="right_wrist_flange">
    <material>Gazebo/SkyBlue</material>
    <selfCollide>false</selfCollide>
  </gazebo>
  <!-- JOINT -->
  <joint name="right_wrist_flange_to_right_forearm_hand_flange" type="fixed">
    <origin rpy="0 0 3.1415927" xyz="0 0 4e-3"/>
    <parent link="right_wrist_flange"/>
    <child link="right_forearm_hand_flange"/>
  </joint>
  <!-- LINK -->
  <link name="right_forearm_hand_flange">
    <visual>
      <material name="qbmove/flange"/>
      <geometry>
        <mesh filename="package://alterego_description/meshes/alterego_v2/visual/mc_wr_abs_qb_adv_301.dae" scale="0.001 0.001 0.001"/>
      </geometry>
      <origin rpy="0 0 0" xyz="0 0 0"/>
    </visual>
    <inertial>
      <origin rpy="0 0 0" xyz="3.0876986e-4 7.1294237e-5 6.7729239e-3"/>
      <mass value="3.4805486e-2"/>
      <inertia ixx="1.5814995e-5" ixy="0" ixz="0" iyy="1.1610747e-5" iyz="0" izz="2.5935426e-5"/>
    </inertial>
    <collision>
      <origin rpy="0 0 0" xyz="0 0 0"/>
      <geometry>
        <mesh filename="package://alterego_description/meshes/alterego_v2/collision/mc_wr_abs_qb_adv_301.stl" scale="0.001 0.001 0.001"/>
      </geometry>
    </collision>
  </link>
  <!-- GAZEBO REFERENCE -->
  <gazebo reference="right_forearm_hand_flange">
    <material>Gazebo/Grey</material>
    <selfCollide>false</selfCollide>
  </gazebo>
  <!-- JOINT -->
  <joint name="right_forearm_hand_flange_to_right_hand" type="fixed">
    <axis xyz="0 0 1"/>
    <limit effort="1000.0" lower="-1.57" upper="1.57" velocity="0.5"/>
    <origin rpy="-1.5707963 0 0" xyz="3.3e-3 -1.99457e-3 2.80422e-3"/>
    <parent link="right_forearm_hand_flange"/>
    <child link="right_hand"/>
  </joint>
  <!-- LINK -->
  <link name="right_hand">
    <visual>
      <material name="qbmove/cube"/>
      <geometry>
        <mesh filename="package://alterego_description/meshes/common/visual/softhand_3_dx_urdf.dae" scale="0.001 0.001 0.001"/>
      </geometry>
      <origin rpy="0 0 0" xyz="0 0 0"/>
    </visual>
    <inertial>
      <origin rpy="0 0 0" xyz="4.1739778e-3  -6.3138073e-2 6.1007501e-3"/>
      <mass value="2.9013125e-1"/>
      <inertia ixx="5.6377846e-4" ixy="-2.5891425e-5" ixz="-1.0142109e-5" iyy="1.4989796e-4" iyz="5.9361645e-6" izz="4.4769789e-4"/>
    </inertial>
    <collision>
      <material name="qbmove/cube"/>
      <geometry>
        <mesh filename="package://alterego_description/meshes/common/collision/softhand_3_dx_urdf.stl" scale="0.001 0.001 0.001"/>
      </geometry>
      <origin rpy="0 0 0" xyz="0 0 0"/>
    </collision>
  </link>
  <joint name="right_hand_to_right_hand__ik" type="fixed">
    <origin rpy="0 0 -1.57" xyz="0 -0.088 0.032"/>
    <parent link="right_hand"/>
    <child link="right_hand_ik"/>
  </joint>
  <link name="right_hand_ik">
		</link>
  <!-- GAZEBO REFERENCE -->
  <gazebo reference="right_hand">
    <material>Gazebo/Grey</material>
    <selfCollide>false</selfCollide>
  </gazebo>
</robot>
